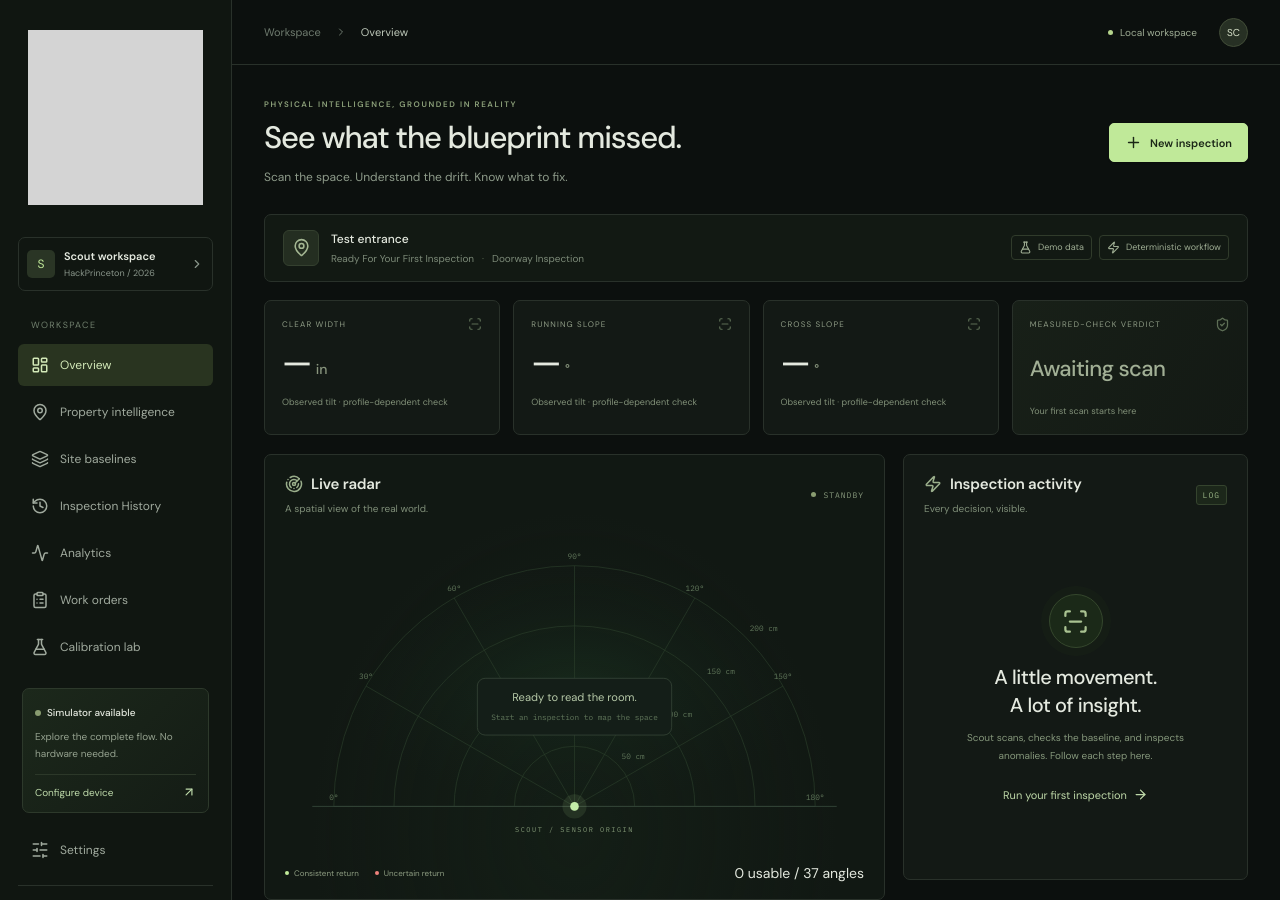
captures calibration positions from hardware and keeps relative tare separate
Expected: the heading "See what the blueprint missed." is shown, [264,119,681,158]
Step 1. Click the button "Calibration lab" → [116, 647], box [18,626,213,668]
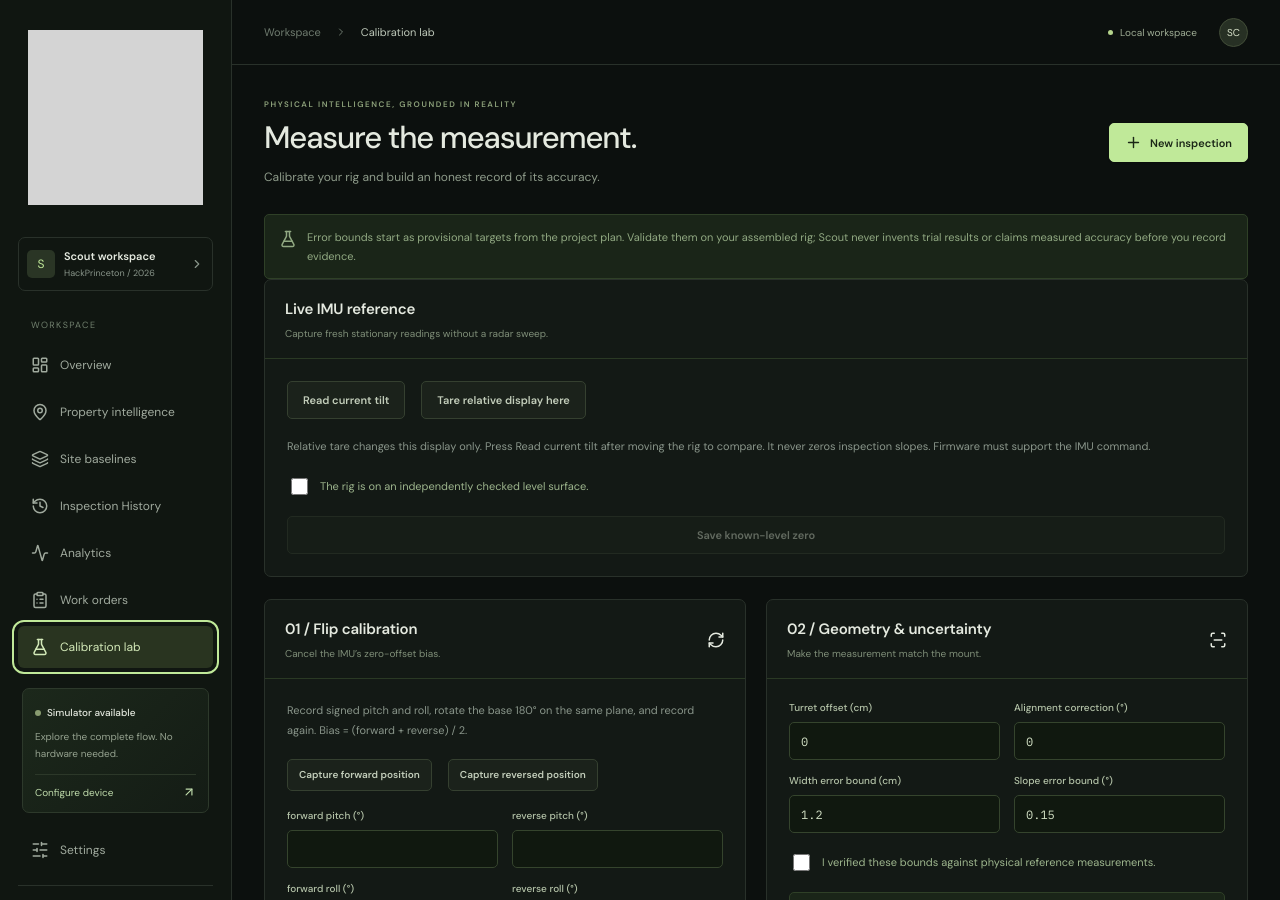
Step 2. Click the button "Capture forward position" → [359, 775], box [287,759,432,791]
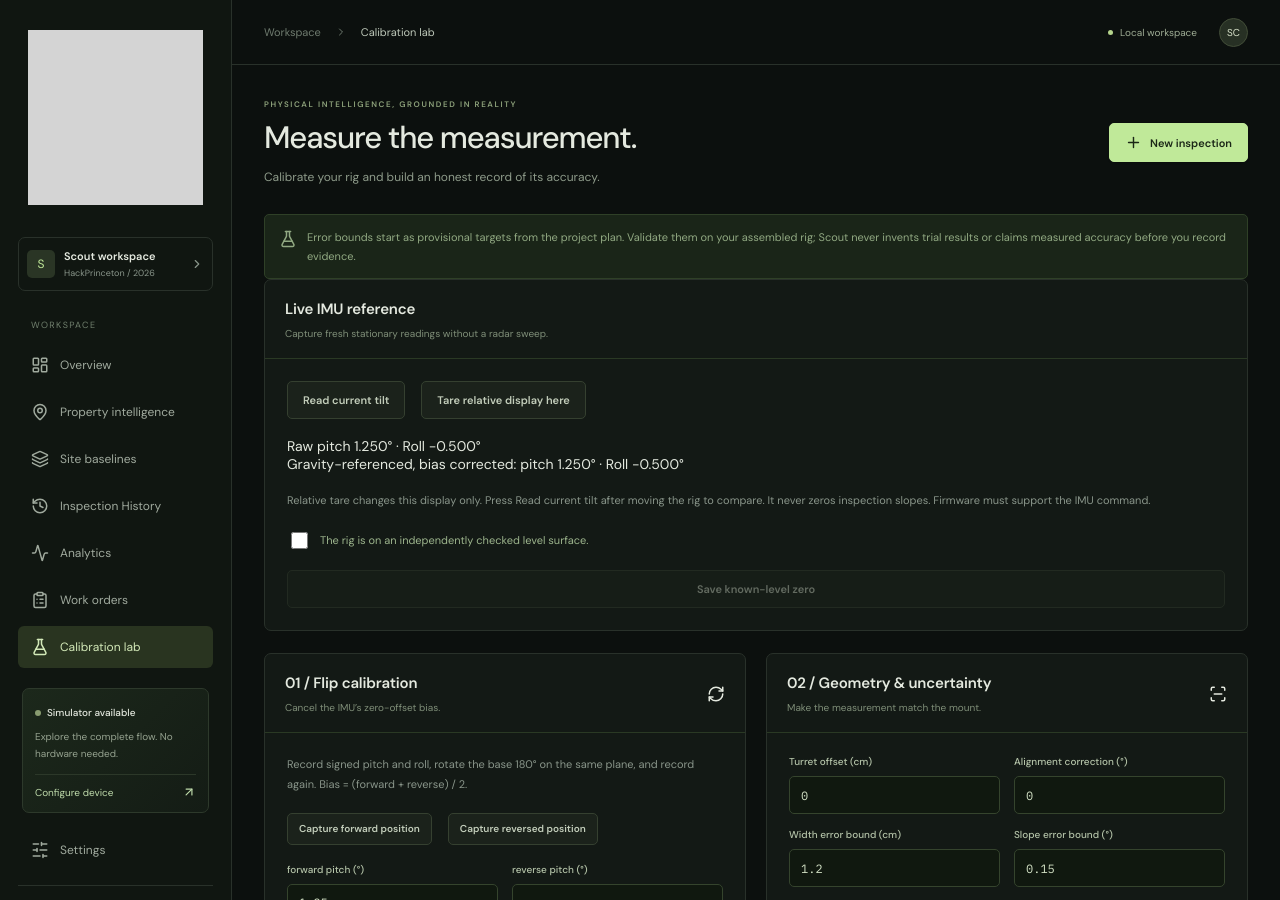
Step 3. Click the button "Tare relative display here" → [504, 400], box [421,381,586,419]
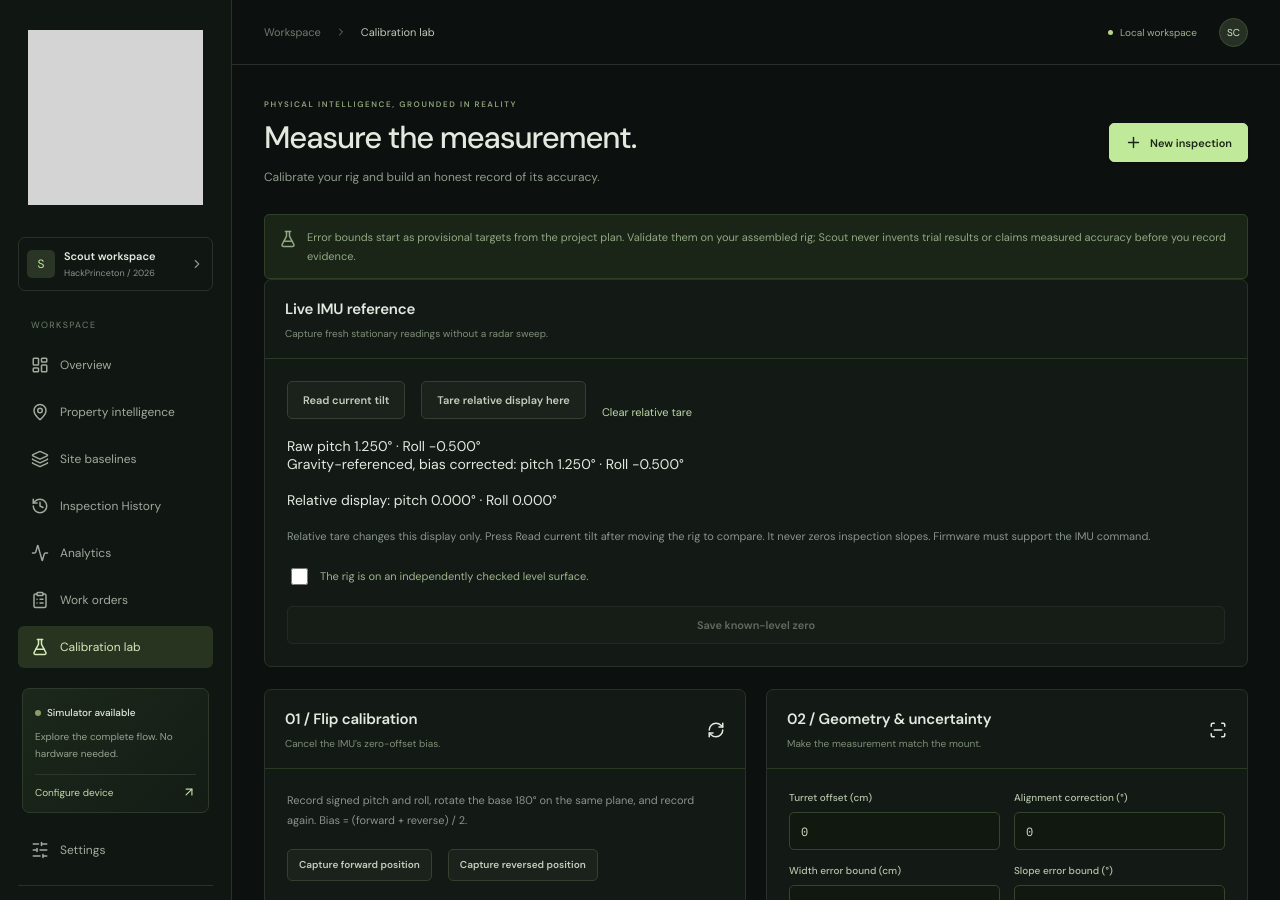
Expected: the button "Save known-level zero" is disabled, [287,606,1225,644]
Expected: the text "Relative display: pitch 0.000° · Roll 0.000°" is shown, [287,491,557,509]
